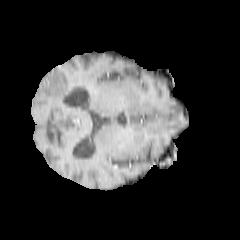glioma: (41, 69, 73, 103)
